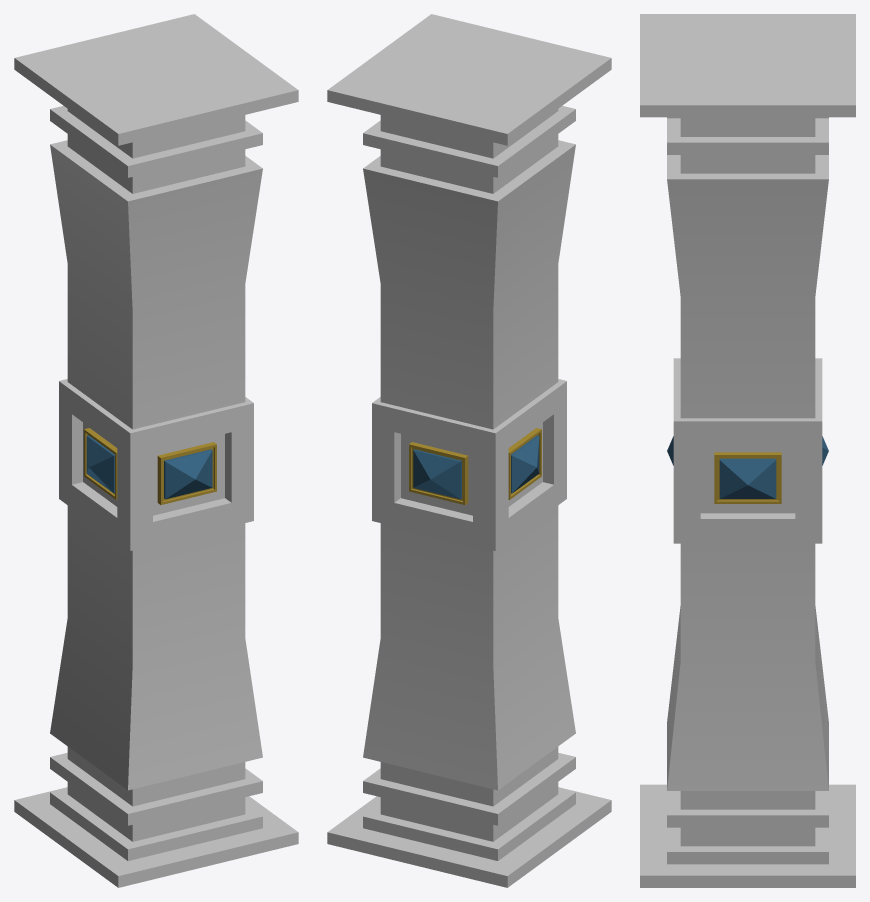
Rendered from Filar 3.fbx.
3 views of the same model, side by side, from view 1: azimuth 30°, elevation 25°; view 2: azimuth 150°, elevation 25°; view 3: azimuth 270°, elevation 25° (orthographic). The views are drawn at different scales.
Parts seen in each view (by area): view 1: Cube; view 2: Cube; view 3: Cube.
Boxes of the visible parts, left/top/right/bottom form: Cube: left=14, top=14, right=298, bottom=887; Cube: left=327, top=14, right=611, bottom=887; Cube: left=640, top=14, right=855, bottom=887.
Bounding box in the file's own units: 80 × 320 × 80.
